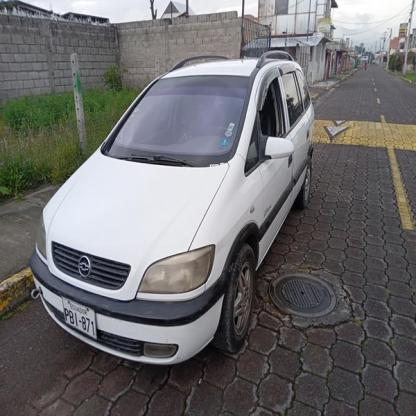Placa: (56, 294, 100, 342)
